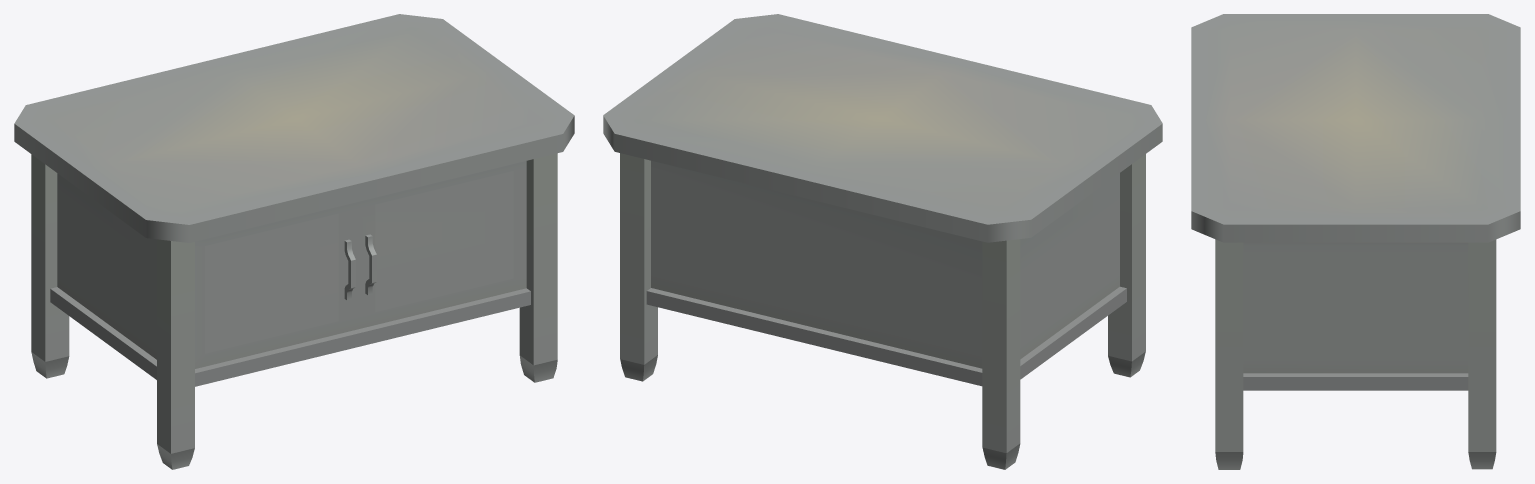
The picture shows the model from 3 angles, left to right: view 1: azimuth 30°, elevation 25°; view 2: azimuth 150°, elevation 25°; view 3: azimuth 270°, elevation 25°; orthographic projection.
Parts seen in each view (by area): view 1: G:\FFXIV-MapTools\exports\n4f5\bgcommon\world\itm\050\bgpart; view 2: G:\FFXIV-MapTools\exports\n4f5\bgcommon\world\itm\050\bgpart; view 3: G:\FFXIV-MapTools\exports\n4f5\bgcommon\world\itm\050\bgpart.
Boxes of the visible parts, x1,y1,x2,y2 form: G:\FFXIV-MapTools\exports\n4f5\bgcommon\world\itm\050\bgpart: (14,14,574,469); G:\FFXIV-MapTools\exports\n4f5\bgcommon\world\itm\050\bgpart: (603,14,1162,469); G:\FFXIV-MapTools\exports\n4f5\bgcommon\world\itm\050\bgpart: (1191,14,1520,469).
Size of the model in its own units: 1.77 by 1.01 by 1.17.
